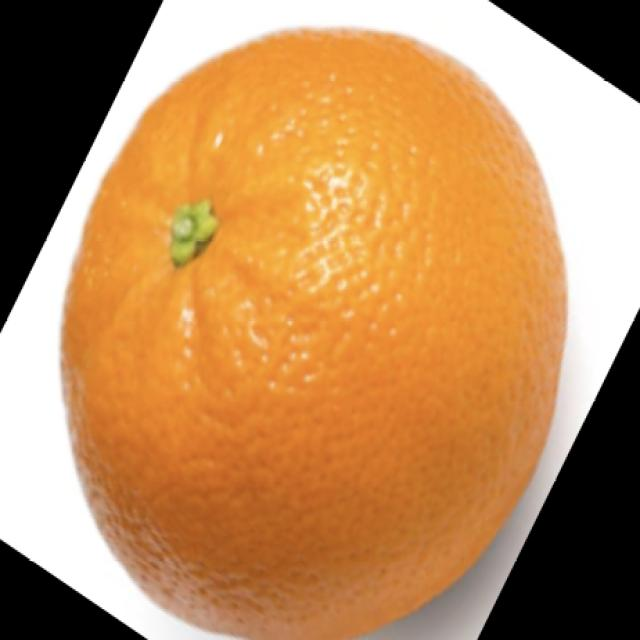matang: (61, 28, 566, 640)
